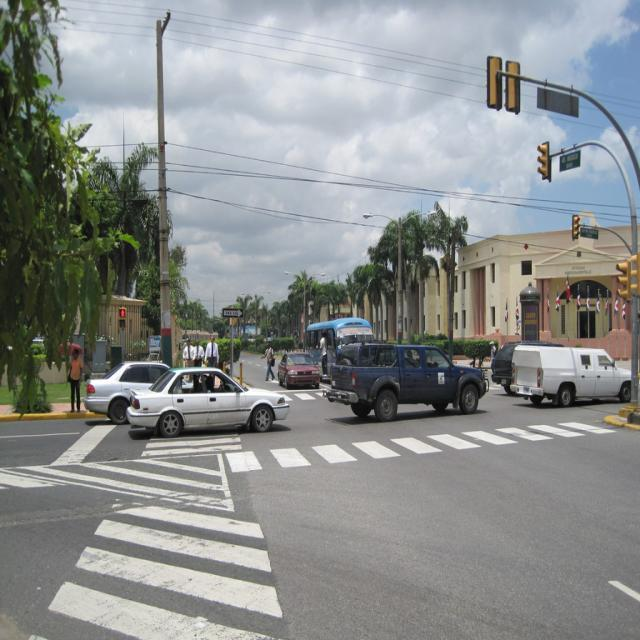off traffic light: (616, 261, 631, 298), (537, 143, 548, 179)
